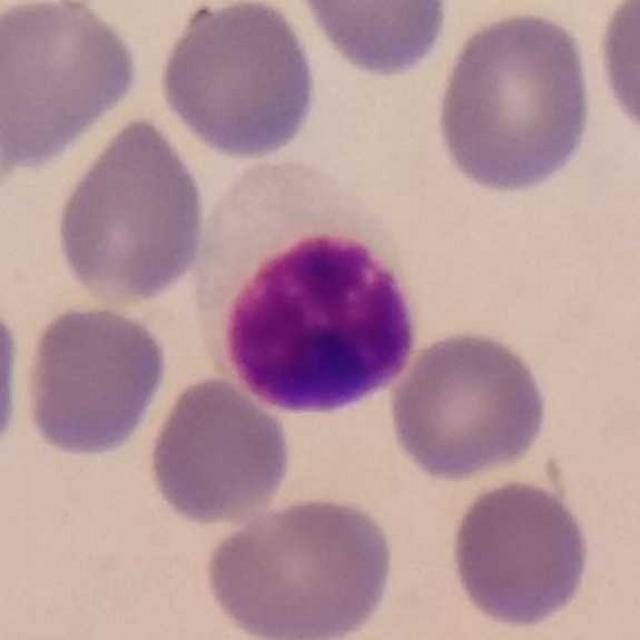Lymphocyte: (194, 156, 423, 420)
RBC: (49, 112, 213, 310), (430, 6, 598, 199), (200, 492, 398, 640), (154, 0, 322, 163), (386, 325, 553, 484), (0, 0, 145, 173), (18, 299, 171, 462), (444, 473, 596, 632), (143, 372, 296, 528), (289, 0, 455, 82), (592, 1, 640, 146), (0, 284, 27, 475), (0, 41, 24, 211)
